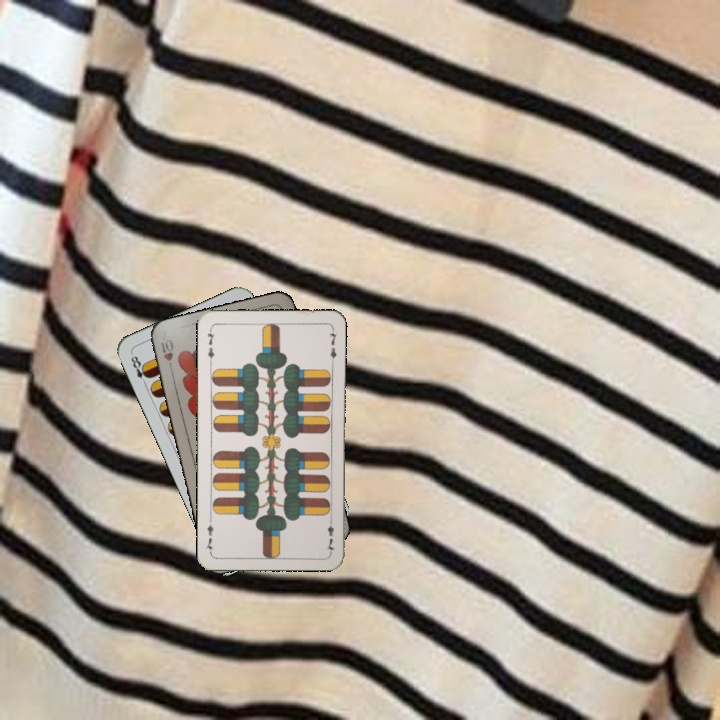E7: (203, 325, 217, 365), (323, 514, 337, 554)
E8: (127, 350, 153, 388)
H10: (156, 335, 176, 375)
